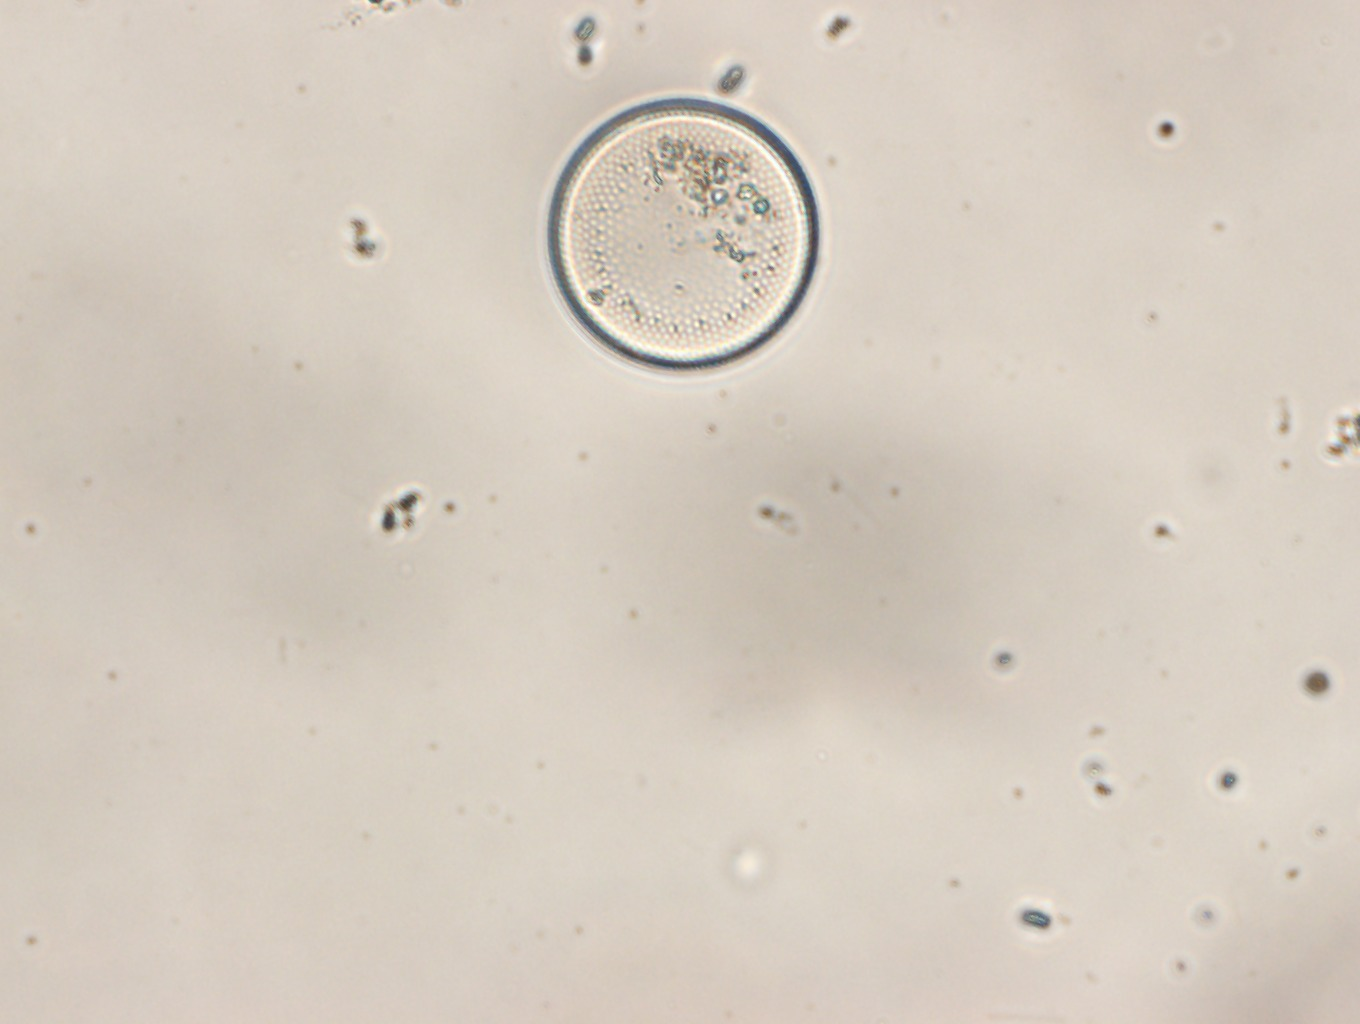coscinodiscus: (546, 91, 826, 383)
